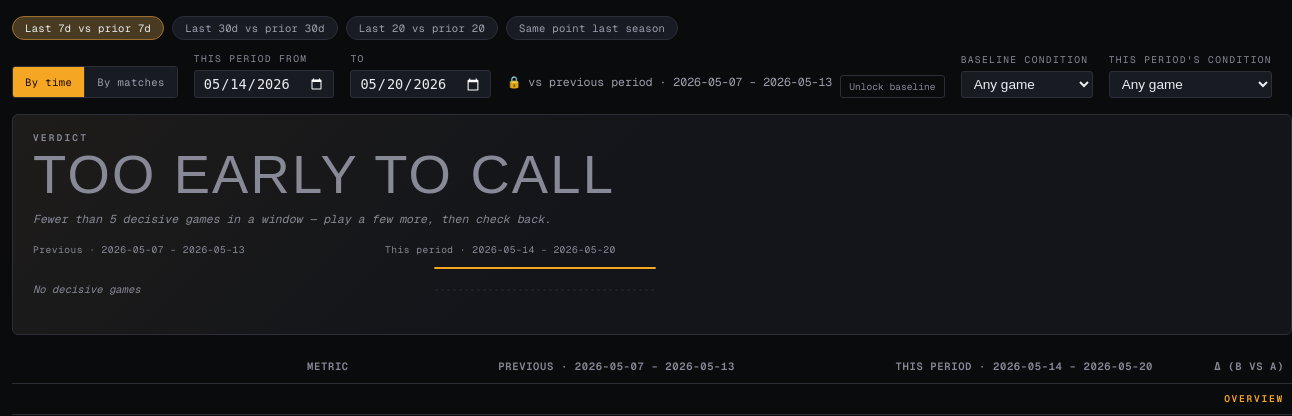
Test case: FormCompareView — pairing controls › offers same-point-last-season only when today sits in a season with a predecessor
(page scrolled)
Click the button "Same point last season" at (592, 28), box [506, 16, 678, 40]
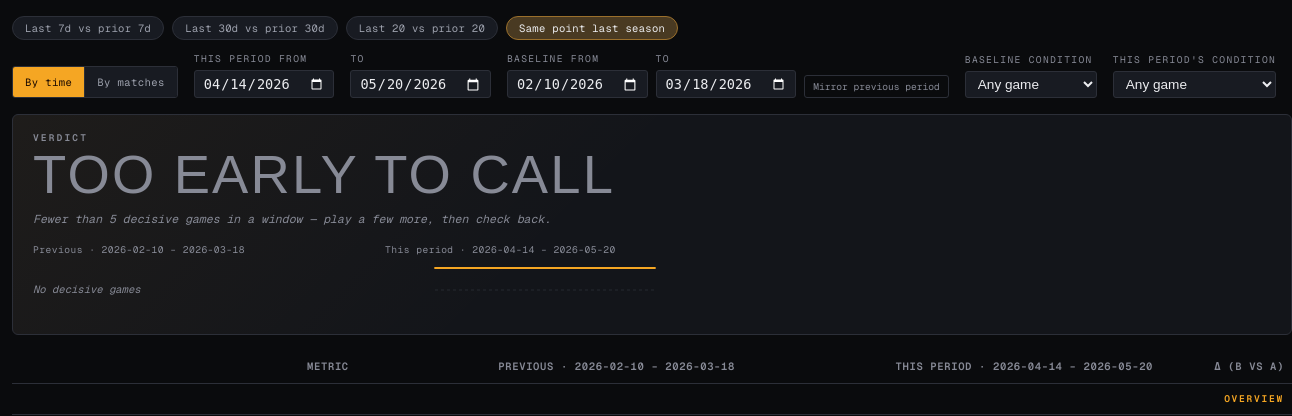
expect the date field labelled "Baseline from" holds "2026-02-10": met, box [507, 70, 648, 98]
expect the date field named "Baseline to" holds "2026-03-18": met, box [656, 70, 796, 98]
expect the date field labelled "This period from" holds "2026-04-14": met, box [194, 70, 334, 98]
